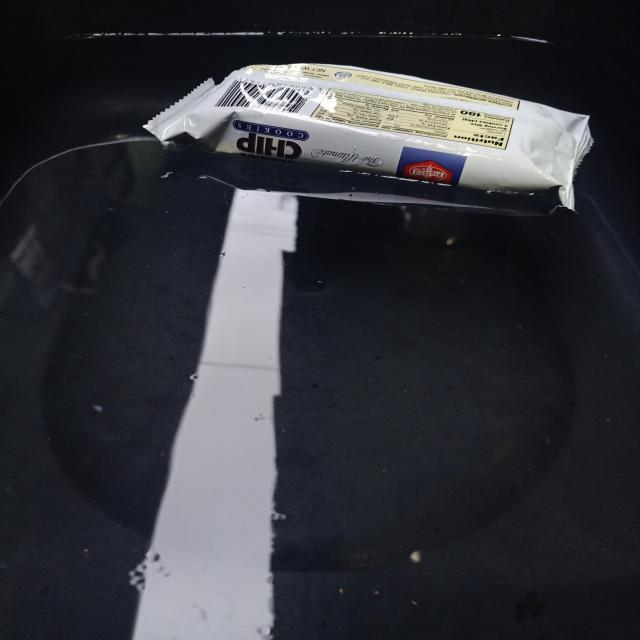Plastic Wrapper: (126, 48, 616, 235)
